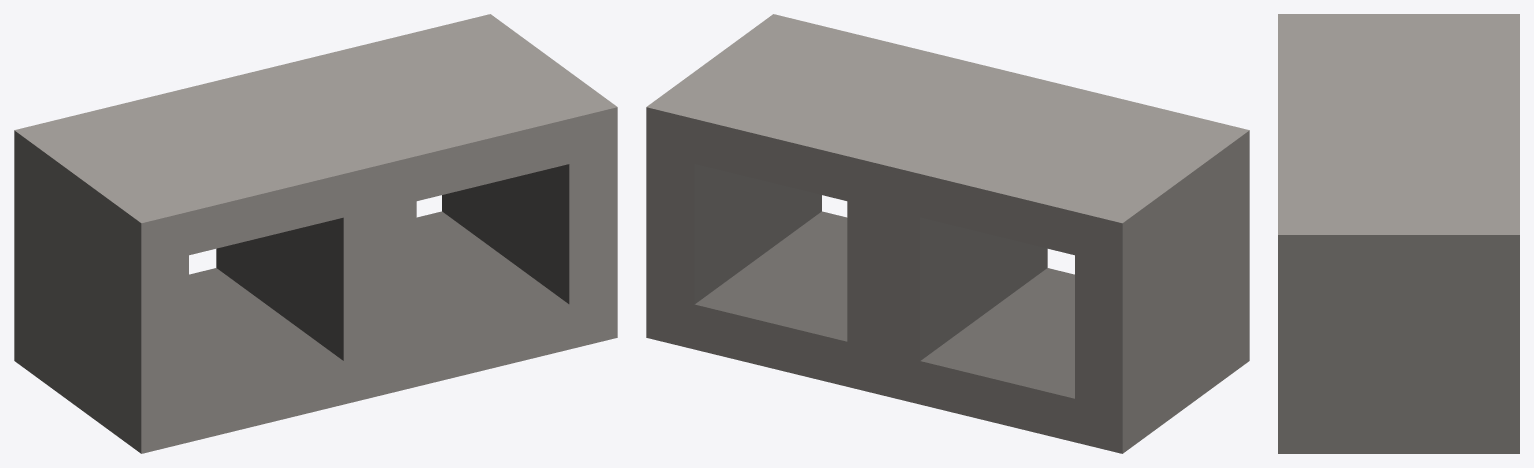
File: SA_Prop_CinderBlock_01.glb
The picture shows the model from 3 angles, left to right: view 1: azimuth 30°, elevation 25°; view 2: azimuth 150°, elevation 25°; view 3: azimuth 270°, elevation 25°; orthographic projection. The views are drawn at different scales.
Visible parts, largest first — view 1: SA_Prop_CinderBlock_01; view 2: SA_Prop_CinderBlock_01; view 3: SA_Prop_CinderBlock_01.
Boxes of the visible parts, x1,y1,x2,y2 form: SA_Prop_CinderBlock_01: (14, 14, 617, 453); SA_Prop_CinderBlock_01: (646, 14, 1249, 453); SA_Prop_CinderBlock_01: (1278, 14, 1519, 453).
Size of the model in its own units: 0.3133 by 0.145 by 0.145.
Materials: 1 (1 with a texture image).
